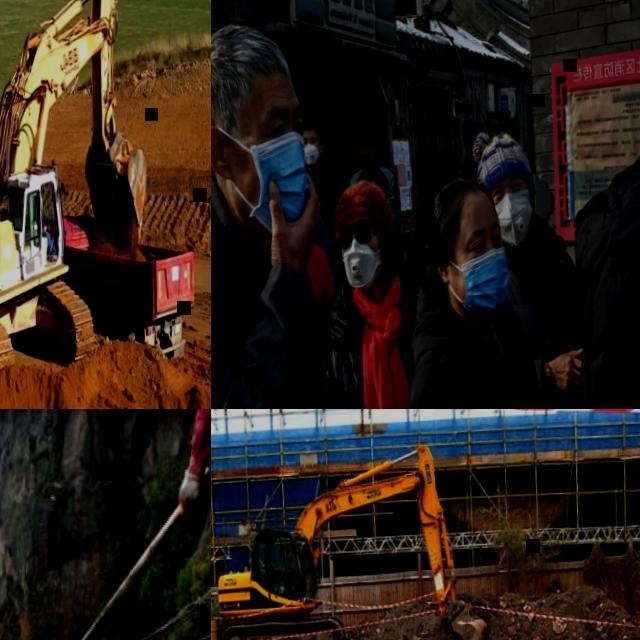Mask: (245, 132, 313, 241), (458, 248, 513, 323), (495, 190, 536, 249), (340, 239, 381, 295), (303, 143, 321, 168), (361, 156, 375, 173)
NO-Hardhat: (211, 16, 293, 121), (428, 177, 499, 241), (331, 180, 396, 237), (474, 129, 534, 186), (353, 126, 374, 150), (302, 115, 322, 134), (461, 117, 479, 135), (525, 139, 536, 152)
NO-Safety Vest: (211, 204, 365, 409), (329, 281, 441, 409), (504, 239, 585, 409), (420, 329, 566, 409), (311, 178, 336, 224), (526, 151, 537, 172), (464, 153, 474, 175)
Person: (472, 127, 595, 409), (558, 16, 640, 409), (140, 409, 211, 640), (458, 120, 483, 182), (32, 217, 56, 259), (525, 134, 536, 172)
machinery: (0, 0, 158, 384), (211, 436, 490, 640), (58, 208, 200, 365)
